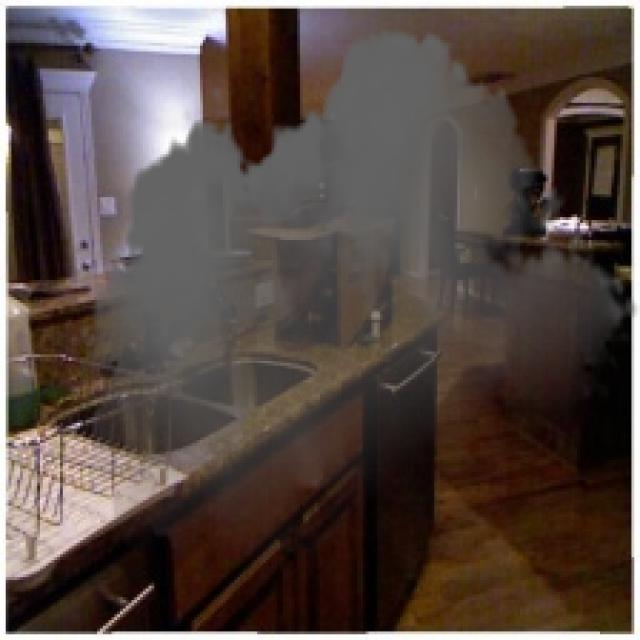smoke: (80, 9, 637, 580)
